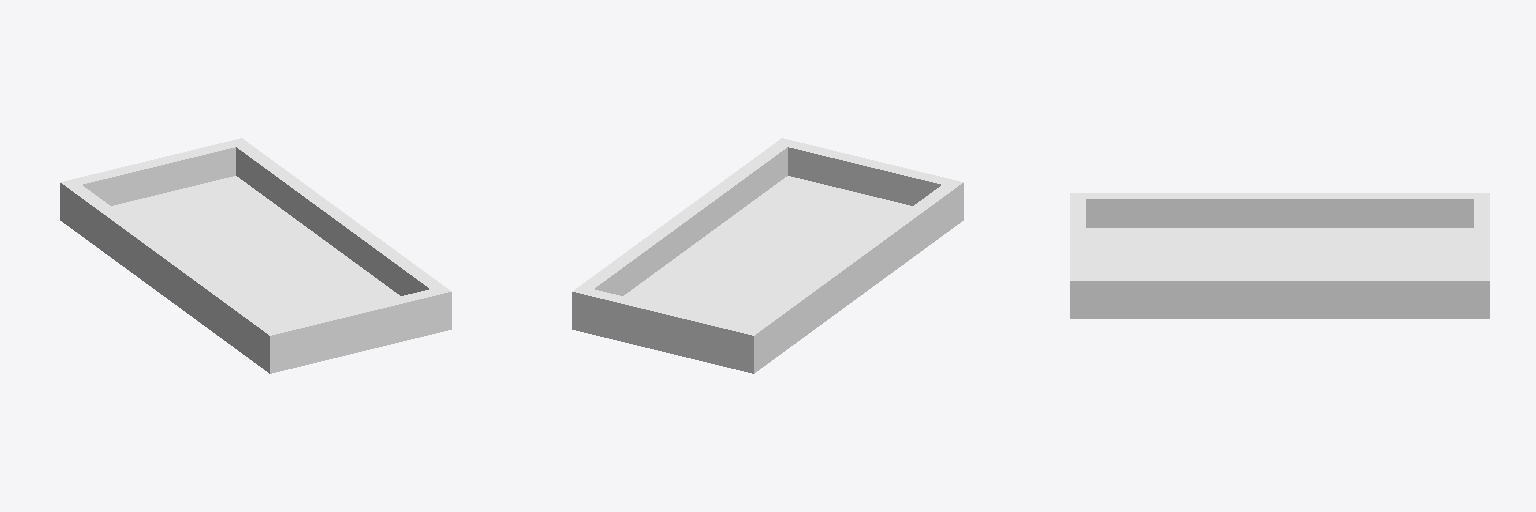
The model's file is Asset-10.obj.
3 renders of one model, left to right at view 1: azimuth 30°, elevation 25°; view 2: azimuth 150°, elevation 25°; view 3: azimuth 270°, elevation 25°, orthographic.
Parts seen in each view (by area): view 1: Asset-10; view 2: Asset-10; view 3: Asset-10.
Part boxes in pixels (left/top/right/bottom): Asset-10: left=60, top=138, right=451, bottom=373; Asset-10: left=572, top=138, right=963, bottom=373; Asset-10: left=1070, top=193, right=1489, bottom=318.
Bounding box in the file's own units: 40 × 8 × 80.